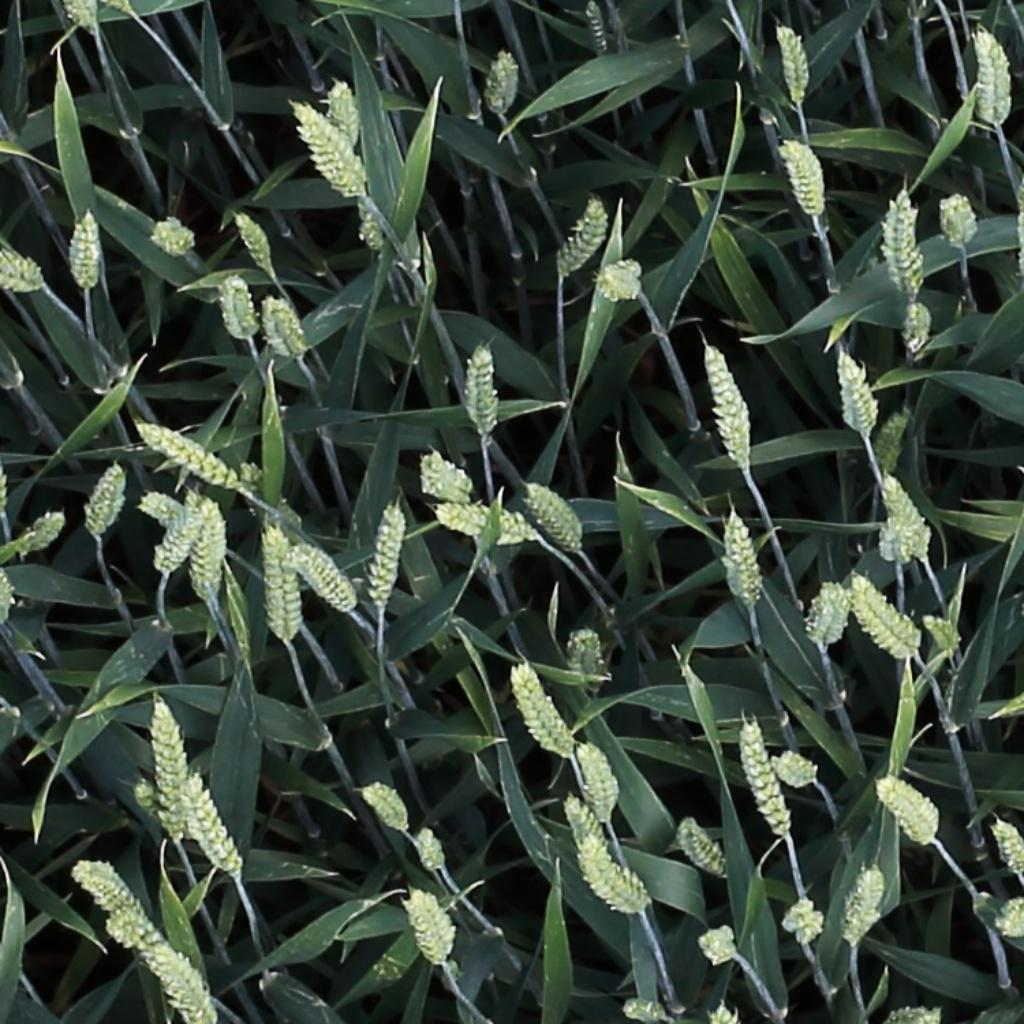0-0: (113, 910, 217, 1021), (290, 95, 370, 196), (235, 455, 317, 549), (180, 774, 245, 882), (740, 718, 795, 845), (141, 424, 242, 493), (510, 662, 578, 764), (704, 339, 756, 472), (258, 530, 313, 653), (851, 573, 924, 660), (150, 694, 188, 850), (152, 488, 210, 581), (580, 842, 648, 918), (555, 191, 611, 282), (289, 543, 359, 615), (522, 479, 588, 555), (882, 471, 936, 563), (152, 947, 216, 1024), (73, 866, 148, 928), (876, 778, 942, 847), (404, 887, 454, 972), (370, 501, 406, 614), (677, 815, 734, 886), (782, 132, 828, 218), (438, 505, 540, 543), (838, 348, 880, 438), (727, 509, 765, 608), (974, 27, 1010, 131), (578, 738, 618, 830), (84, 458, 128, 540), (229, 202, 279, 274), (843, 862, 887, 943), (890, 192, 922, 301), (263, 290, 309, 364), (775, 19, 812, 110), (131, 489, 201, 537), (421, 446, 475, 507), (561, 790, 607, 861), (191, 502, 223, 595), (875, 404, 914, 480), (469, 339, 498, 441), (131, 778, 176, 843), (598, 255, 645, 314), (360, 783, 413, 835), (354, 184, 390, 260), (812, 580, 850, 651), (16, 507, 68, 557), (987, 815, 1024, 884), (222, 268, 255, 344), (573, 623, 606, 699), (940, 185, 976, 252), (330, 73, 361, 150), (487, 43, 517, 120), (73, 204, 98, 294), (921, 610, 965, 659), (413, 823, 449, 882), (977, 897, 1024, 941), (582, 0, 615, 62), (1, 246, 40, 295), (791, 899, 826, 947), (906, 292, 932, 356), (152, 219, 195, 251), (774, 757, 821, 786), (64, 0, 101, 36), (699, 931, 740, 963), (622, 1000, 671, 1022), (887, 1006, 942, 1024)
